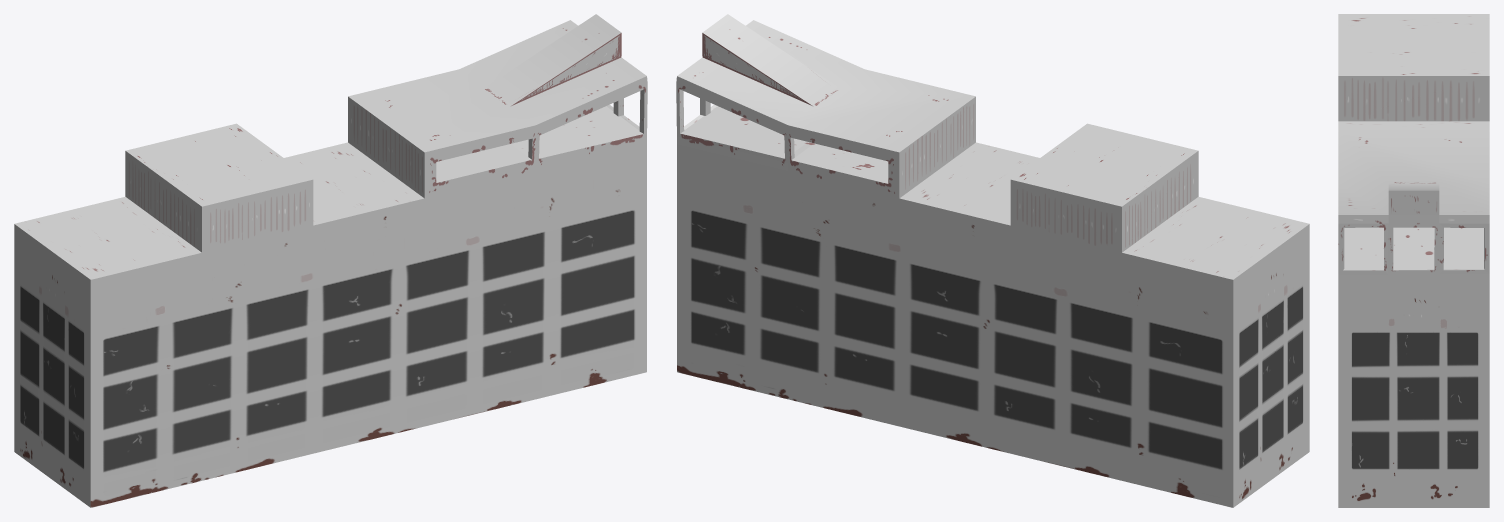
The model's file is hoteluv.FBX.
3 views of the same model, side by side, from view 1: azimuth 30°, elevation 25°; view 2: azimuth 150°, elevation 25°; view 3: azimuth 270°, elevation 25° (orthographic).
Visible parts, largest first — view 1: Box001; view 2: Box001; view 3: Box001.
Boxes of the visible parts, x1,y1,x2,y2 form: Box001: [14, 14, 647, 507]; Box001: [676, 14, 1309, 507]; Box001: [1338, 14, 1489, 507].
Bounding box in the file's own units: 167 × 92.05 × 39.82.
1 material, 1 textured.
